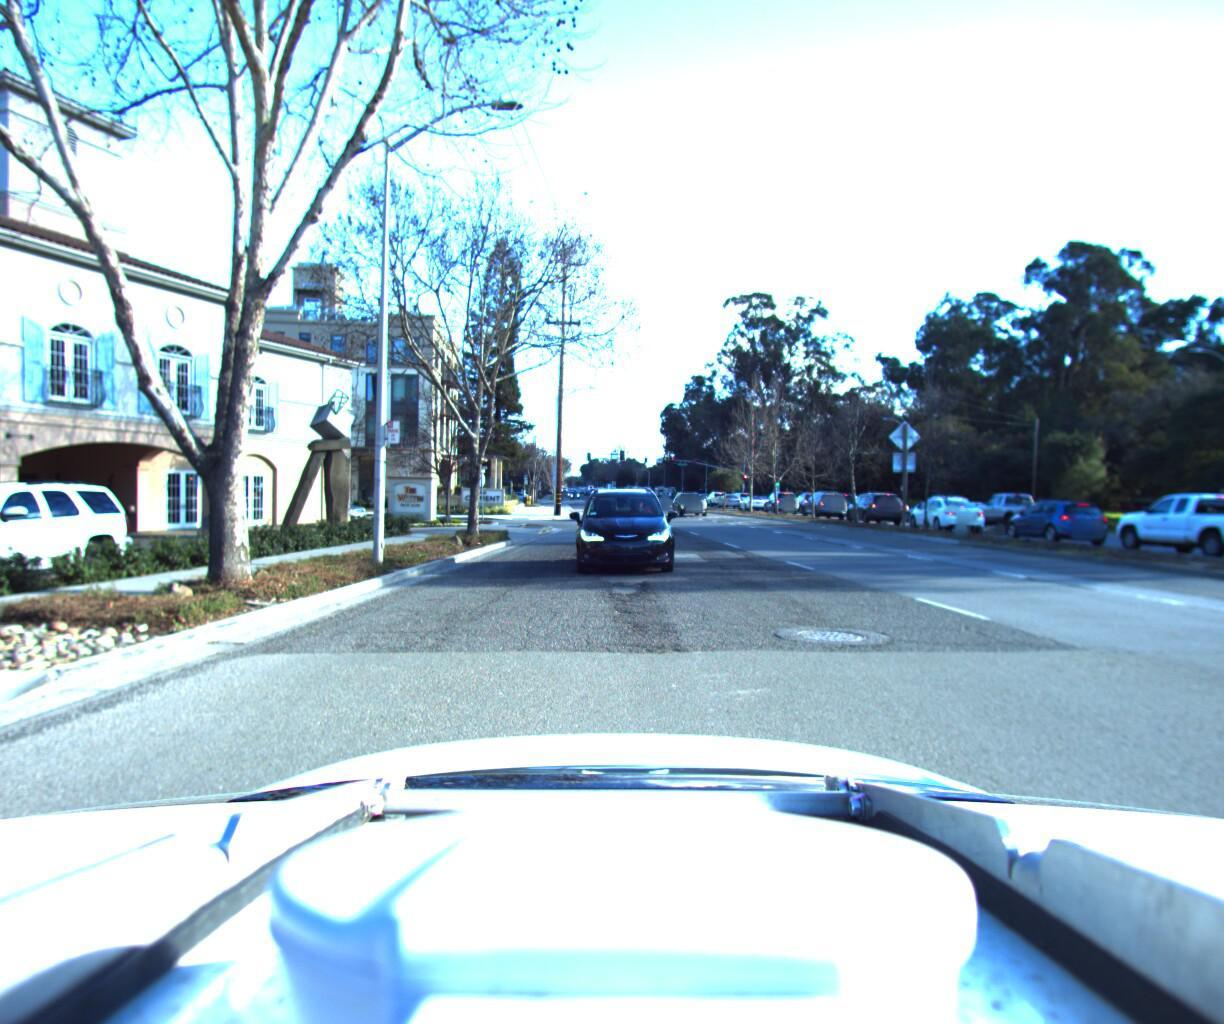car: (0, 471, 148, 626), (560, 476, 670, 574), (1100, 481, 1224, 563), (992, 489, 1117, 541), (976, 486, 1074, 530), (896, 488, 992, 529), (284, 489, 374, 518), (838, 483, 908, 519), (903, 487, 974, 522), (795, 482, 849, 513), (673, 483, 714, 511), (761, 482, 801, 507), (736, 487, 769, 504), (716, 486, 745, 502)
